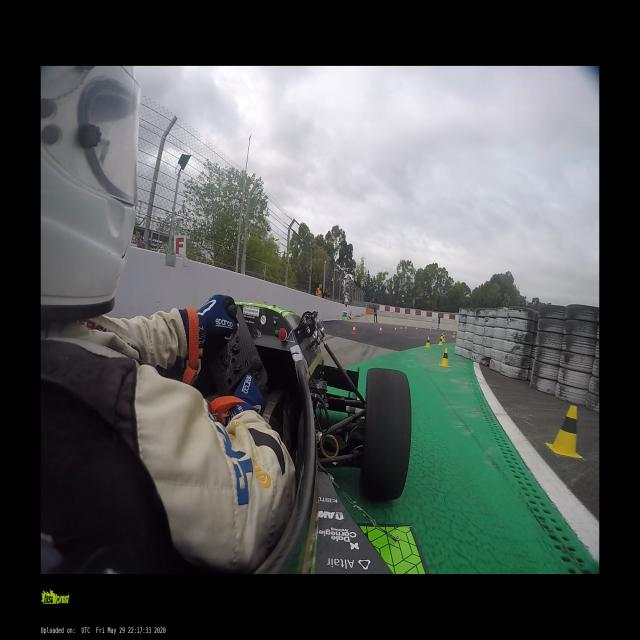orange_cone: (352, 324, 356, 336), (379, 324, 382, 334), (394, 325, 397, 333), (400, 325, 402, 331), (405, 325, 406, 331), (416, 326, 417, 330)
yellow_cone: (548, 406, 582, 460), (439, 348, 450, 368), (425, 337, 430, 348), (438, 336, 443, 345), (441, 335, 445, 342), (452, 332, 455, 338), (440, 332, 443, 338)
